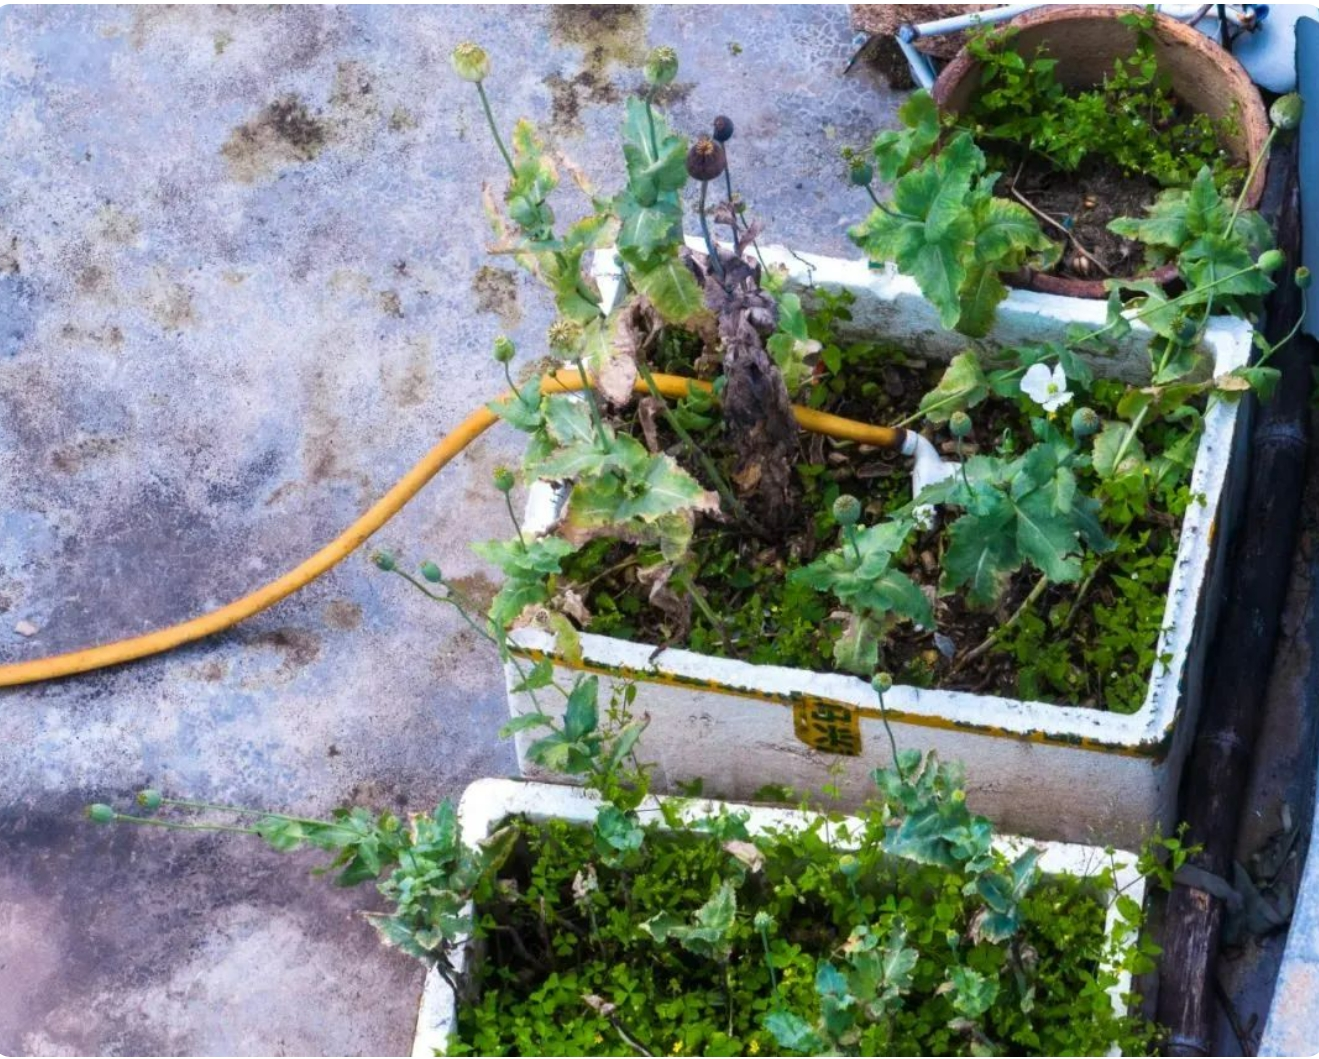Poppy: (410, 10, 1298, 702), (96, 542, 1184, 1048)
